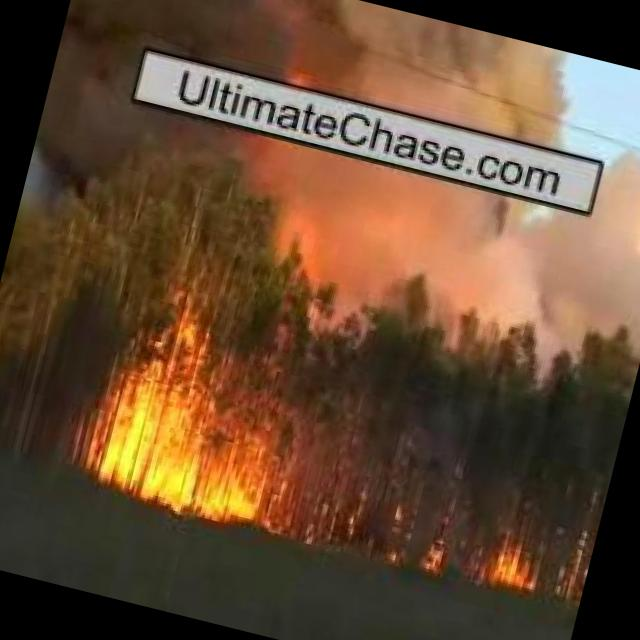Fire: (84, 340, 298, 532), (304, 487, 373, 558), (470, 535, 544, 597), (562, 530, 586, 599), (418, 542, 451, 576)
Smoke: (12, 82, 640, 387), (63, 0, 593, 153)
